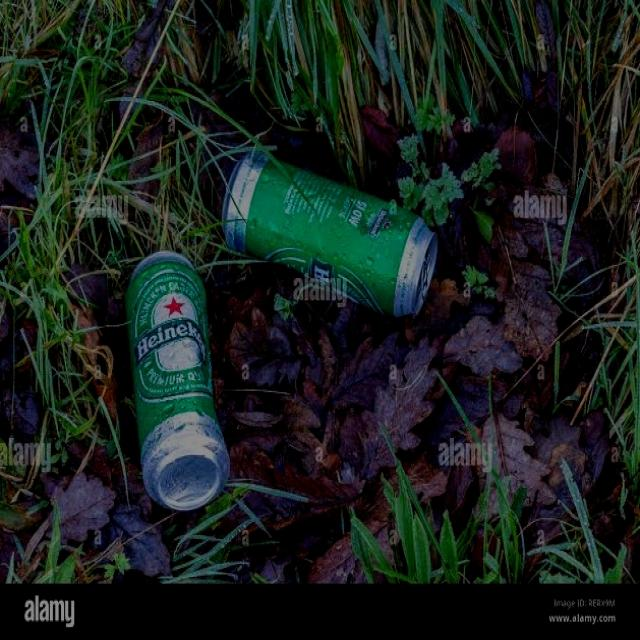metal: (219, 139, 442, 330), (124, 233, 237, 521)
